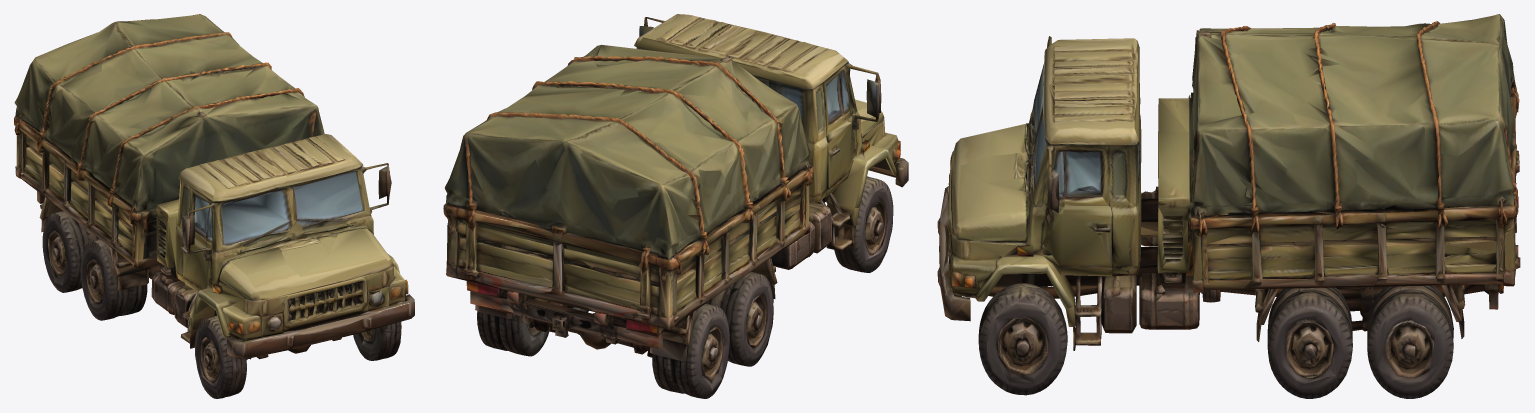
The model's file is truck.glb.
The picture shows the model from 3 angles, left to right: view 1: azimuth 30°, elevation 25°; view 2: azimuth 150°, elevation 25°; view 3: azimuth 270°, elevation 25°; orthographic projection. The views are drawn at different scales.
Parts seen in each view (by area): view 1: TruckPart_Cab, TruckPart_Tarp, TruckPart_Bed, TruckPart_Wheel_RL, TruckPart_Door_L, TruckPart_Wheel_FL; view 2: TruckPart_Tarp, TruckPart_Cab, TruckPart_Tailgate, TruckPart_Bed, TruckPart_Wheel_RL, TruckPart_Wheel_FL, TruckPart_Door_L, TruckPart_Wheel_RR; view 3: TruckPart_Tarp, TruckPart_Cab, TruckPart_Bed, TruckPart_Wheel_RR, TruckPart_Door_R, TruckPart_Wheel_FR.
Part boxes in pixels (box(x1,y1,x2,y2)): TruckPart_Cab: box(166, 134, 414, 398); TruckPart_Tarp: box(14, 14, 324, 264); TruckPart_Bed: box(15, 132, 179, 314); TruckPart_Wheel_RL: box(39, 198, 146, 320); TruckPart_Door_L: box(162, 211, 212, 318); TruckPart_Wheel_FL: box(181, 305, 223, 398); TruckPart_Tarp: box(443, 44, 813, 293); TruckPart_Cab: box(634, 14, 908, 261); TruckPart_Tailgate: box(446, 219, 678, 348); TruckPart_Bed: box(457, 184, 810, 392); TruckPart_Wheel_RL: box(652, 273, 775, 398); TruckPart_Wheel_FL: box(826, 184, 892, 272); TruckPart_Door_L: box(809, 106, 879, 231); TruckPart_Wheel_RR: box(475, 305, 515, 353); TruckPart_Tarp: box(1157, 14, 1519, 258); TruckPart_Cab: box(937, 36, 1159, 391); TruckPart_Bed: box(1136, 132, 1519, 337); TruckPart_Wheel_RR: box(1256, 285, 1464, 398); TruckPart_Door_R: box(1042, 194, 1172, 309); TruckPart_Wheel_FR: box(987, 285, 1104, 395).
Bounding box in the file's own units: 2.7 × 2.8 × 5.
2 materials, 2 textured.
